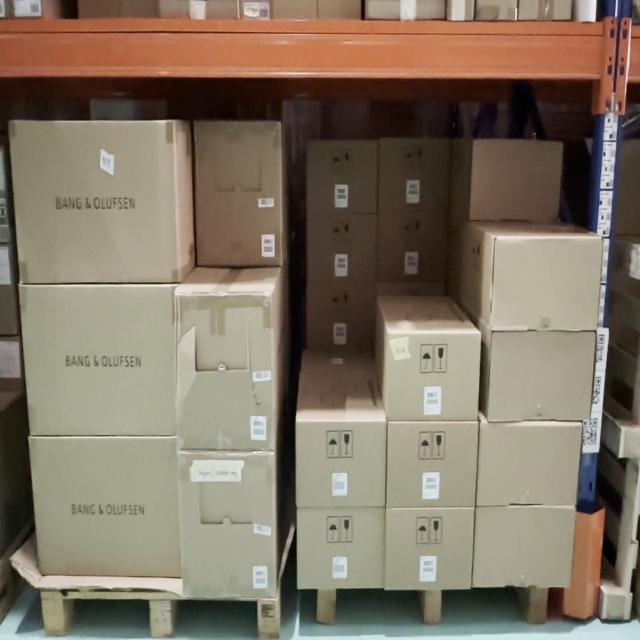box: (14, 126, 178, 284), (23, 282, 178, 432), (32, 434, 178, 579), (178, 292, 274, 456), (181, 460, 276, 594), (195, 126, 282, 268), (492, 234, 600, 324), (493, 330, 589, 422), (469, 139, 564, 225), (299, 420, 387, 511), (386, 336, 484, 416), (386, 423, 474, 502), (477, 508, 576, 578), (483, 428, 577, 501), (386, 510, 472, 582), (298, 514, 382, 584), (378, 217, 452, 288), (379, 143, 452, 212), (307, 213, 376, 280), (309, 144, 376, 211)
